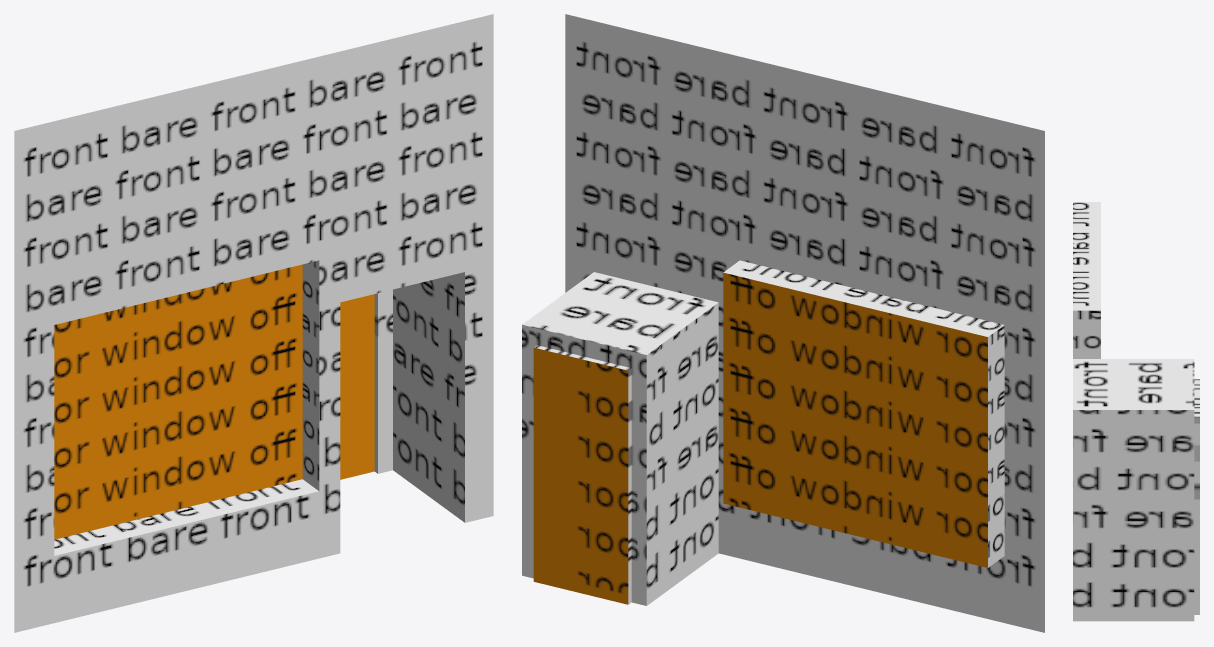
Rendered from door_single_window_off_floor.gltf.
The picture shows the model from 3 angles, left to right: view 1: azimuth 30°, elevation 25°; view 2: azimuth 150°, elevation 25°; view 3: azimuth 270°, elevation 25°; orthographic projection. The views are drawn at different scales.
Parts seen in each view (by area): view 1: door_single_window_off_floor; view 2: door_single_window_off_floor; view 3: door_single_window_off_floor.
Boxes of the visible parts, x1,y1,x2,y2 form: door_single_window_off_floor: [14, 14, 493, 632]; door_single_window_off_floor: [522, 14, 1044, 632]; door_single_window_off_floor: [1073, 202, 1199, 621].
Bounding box in the file's own units: 5 × 5 × 1.36.
Materials: 2 (2 with a texture image).
